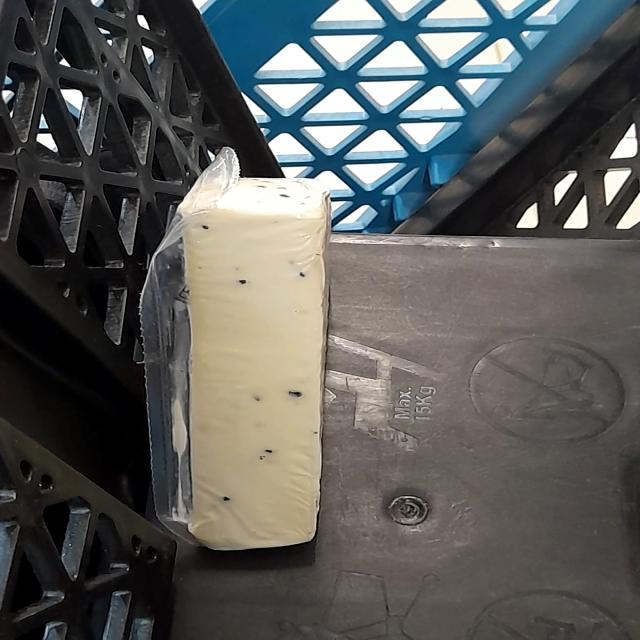cheese: (151, 161, 381, 571)
